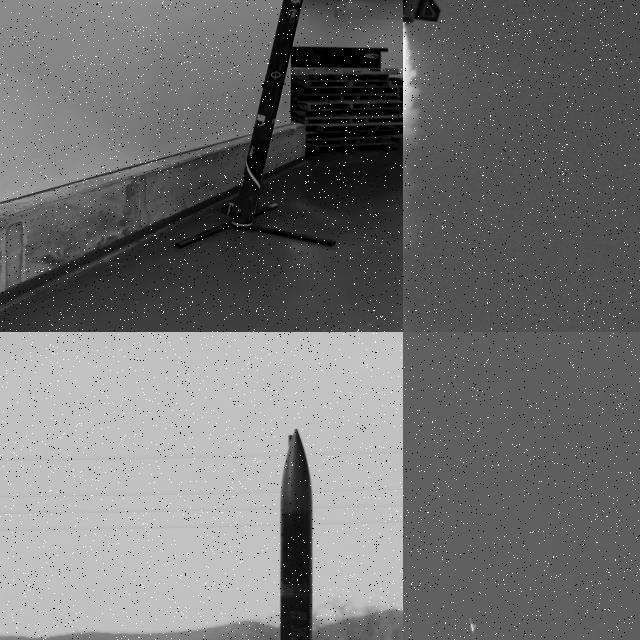Rocket: (243, 426, 347, 640), (220, 0, 304, 227), (469, 618, 476, 633)
